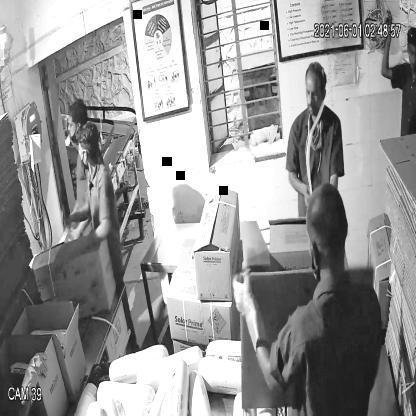no_goggles: (302, 84, 327, 105)
